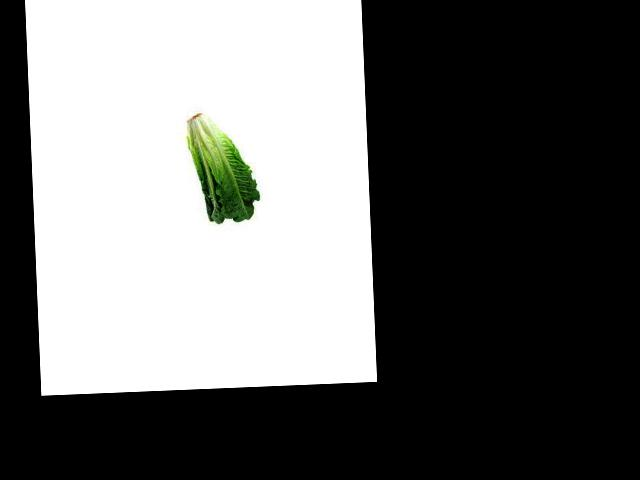lettuce: (195, 136, 293, 247)
